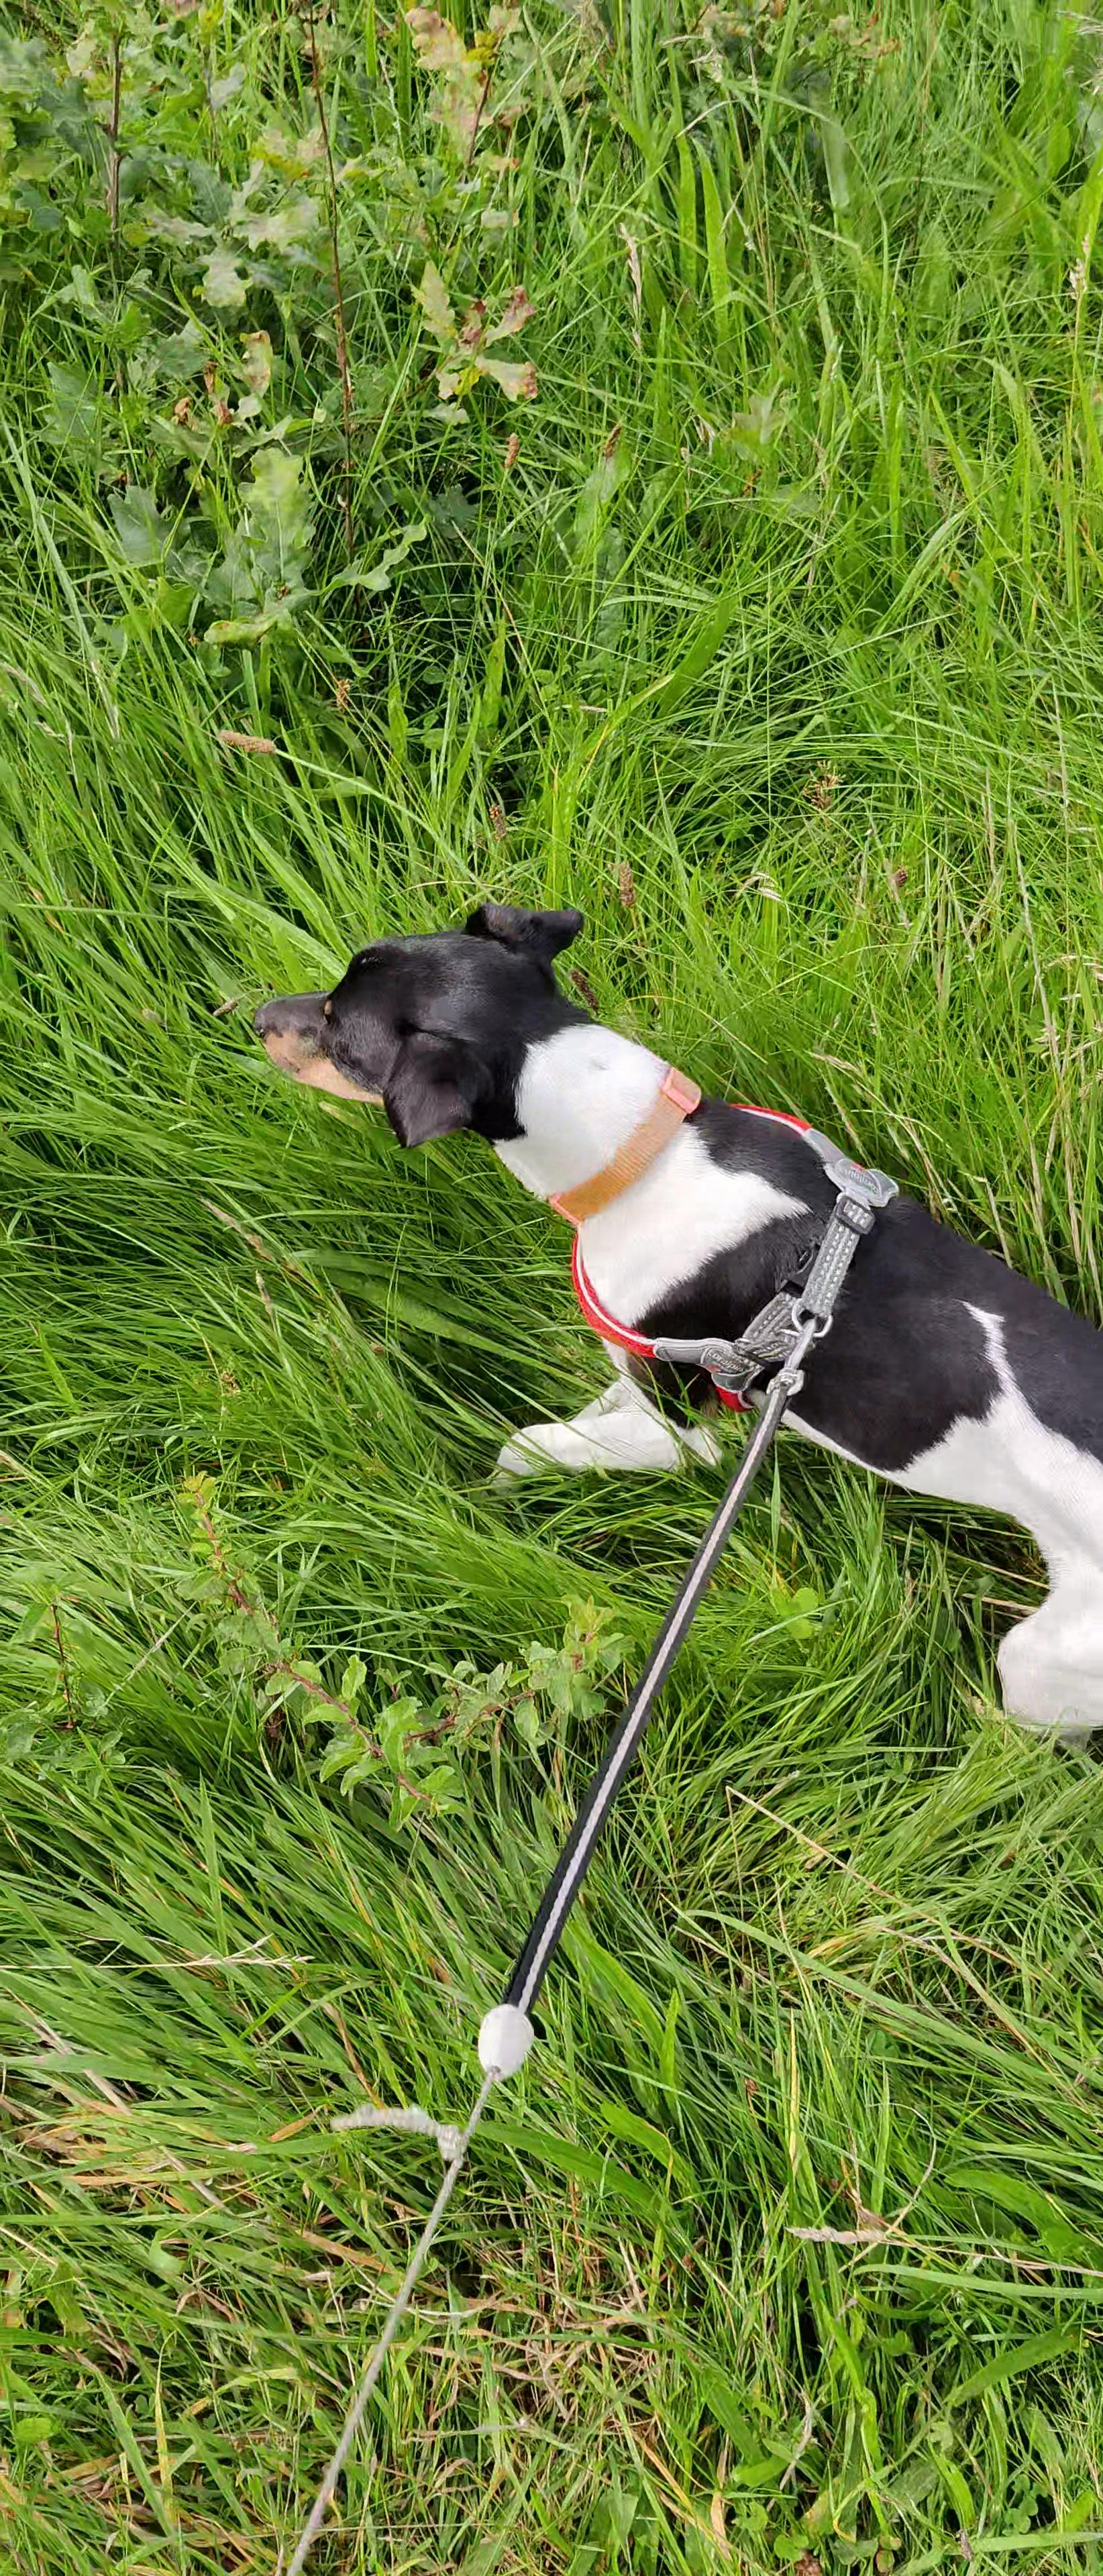Dog: (219, 876, 1103, 1774)
